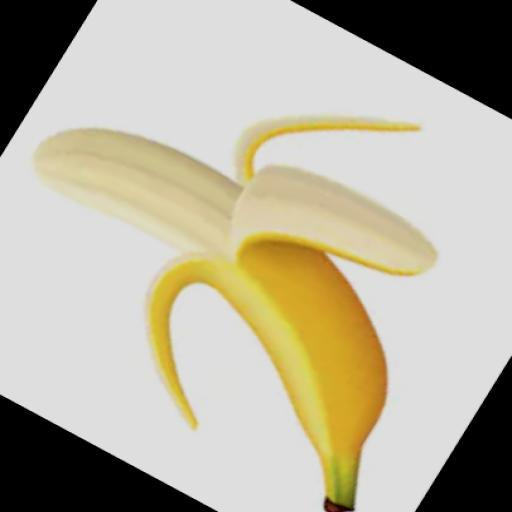banana-ripe: (0, 36, 512, 512)
